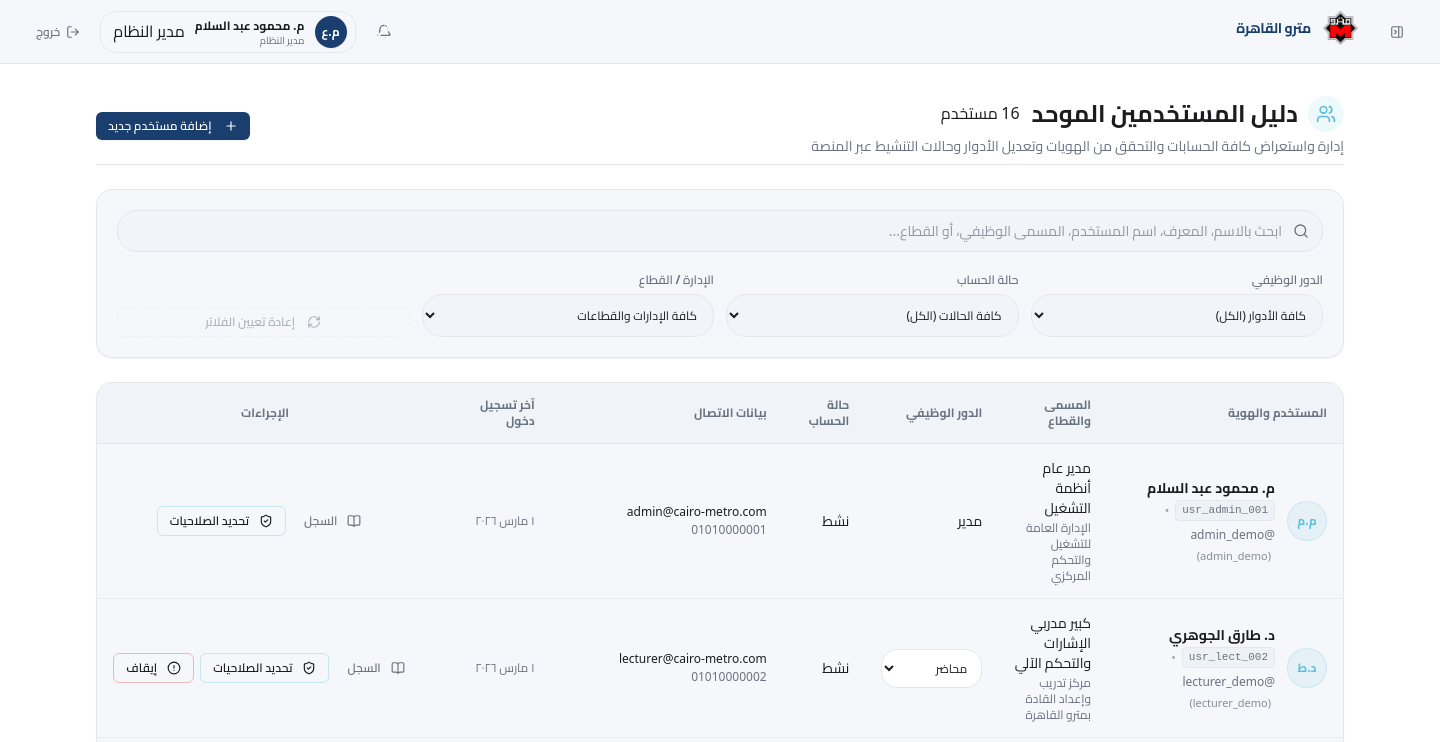
it: Increment 11 — Phase 1: Central User Directory Foundation & Seed Data Unification › 5. Role, Status, and Department Filters › resets all filters when clicking the reset button
The image size is (1440, 742).
Select "مدير" in the dropdown with test id "role-filter-select": (1177, 316) 1030,294 -> 1323,337
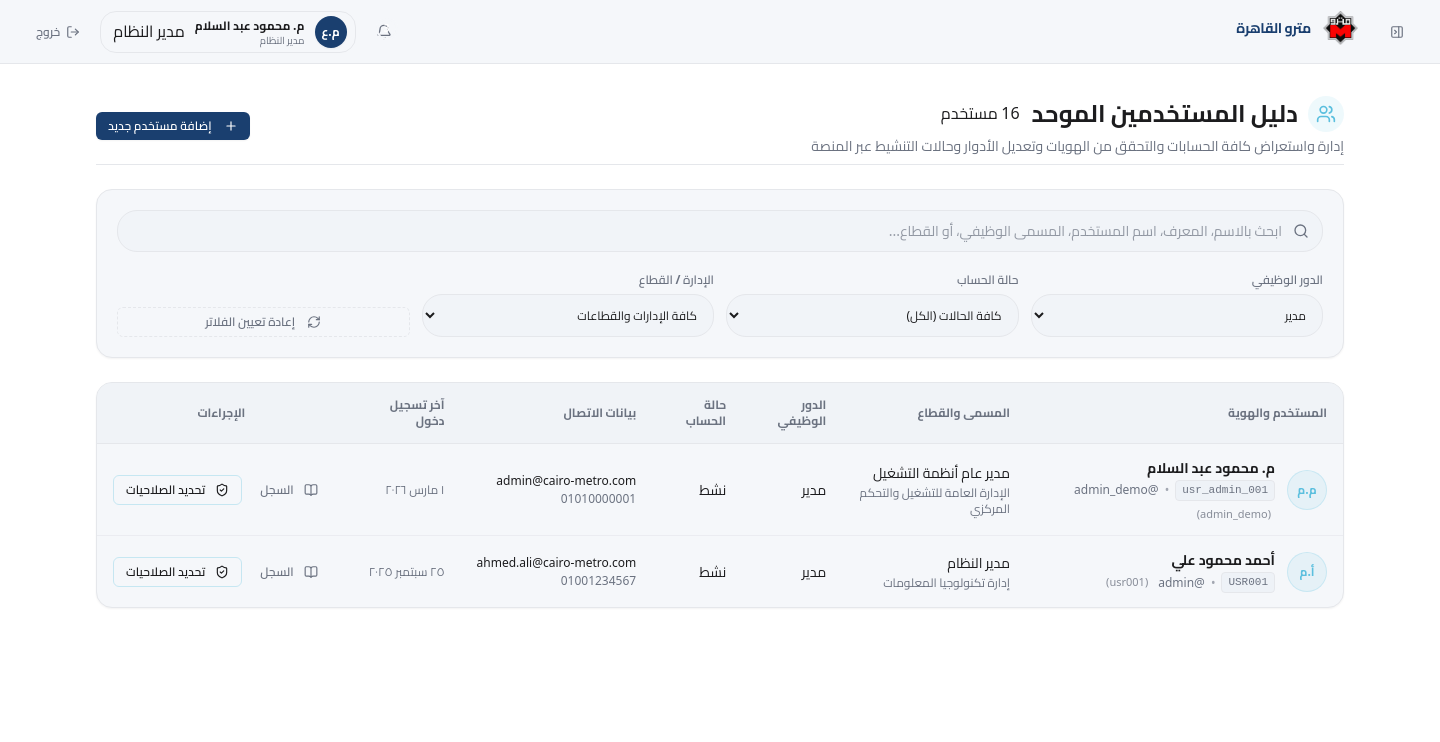
expect the button with test id "reset-filters-btn" is enabled: met
Click the button with test id "reset-filters-btn": (263, 322) 117,307 -> 410,337
(page scrolled)
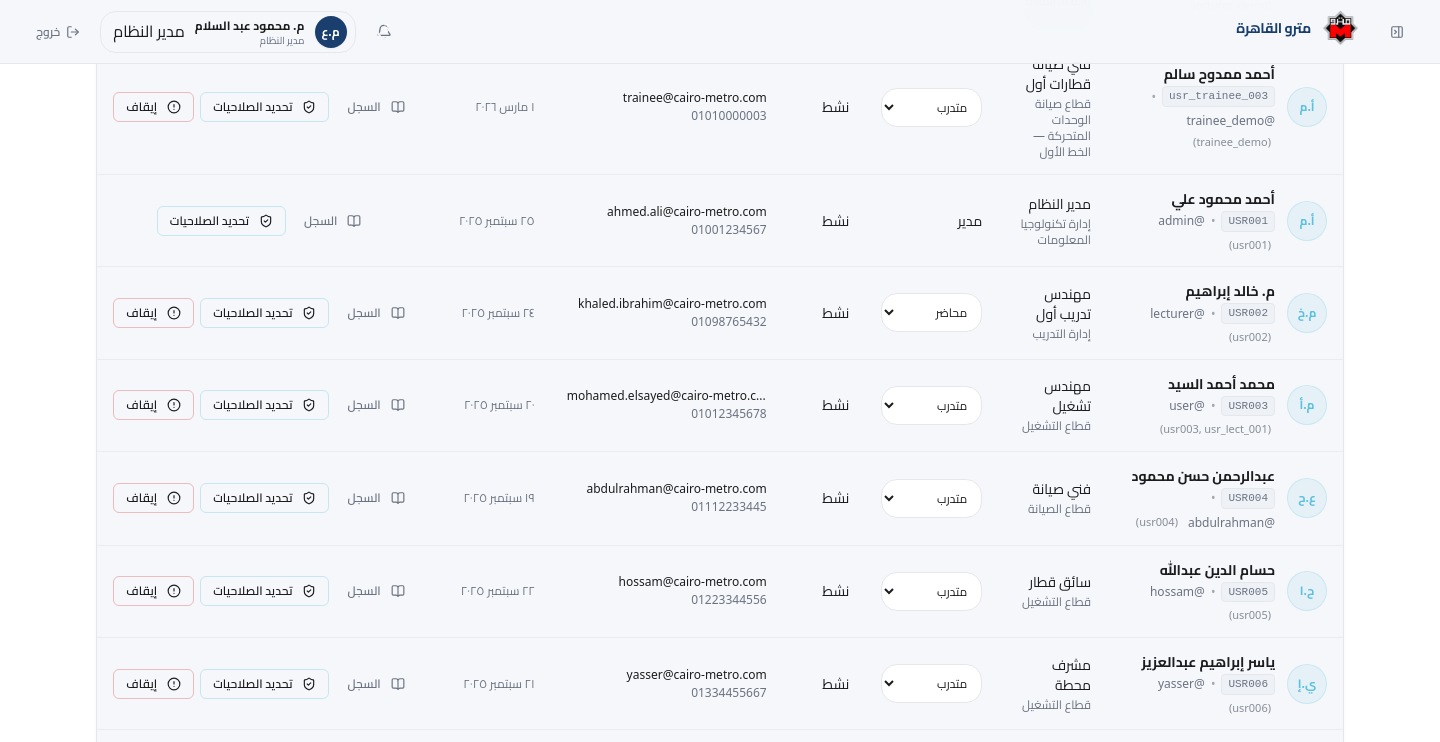
expect the row with test id "user-row-USR001" is shown: met, box 97,174 -> 1343,267
expect the row with test id "user-row-USR002" is shown: met, box 97,267 -> 1343,359
expect the row with test id "user-row-USR003" is shown: met, box 97,359 -> 1343,451
